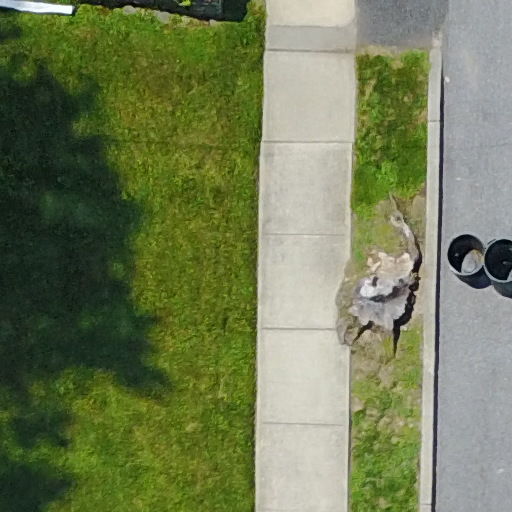garbage bin: (440, 228, 491, 292), (476, 233, 512, 298)
